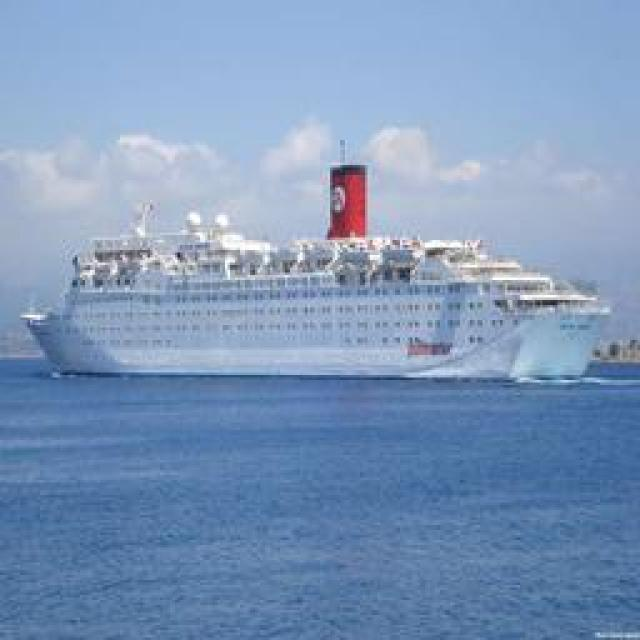ship2: (22, 142, 613, 383)
